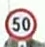limite 50: (4, 7, 37, 40)
